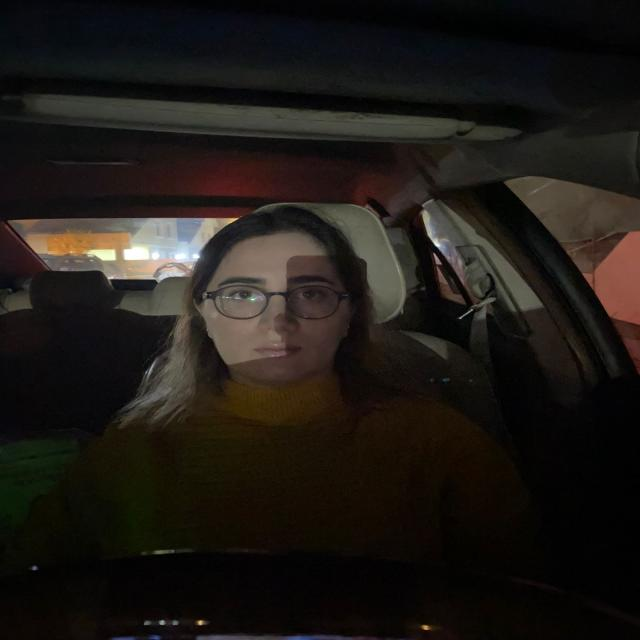person: (190, 203, 368, 400)
